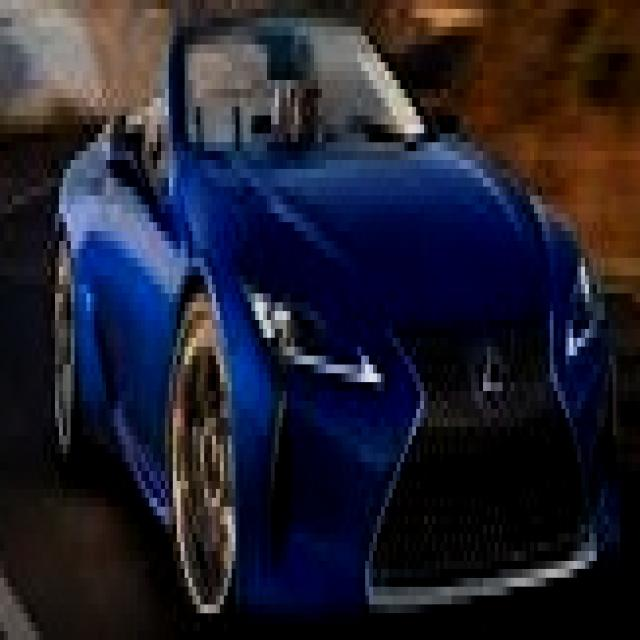blue: (51, 4, 640, 640)
